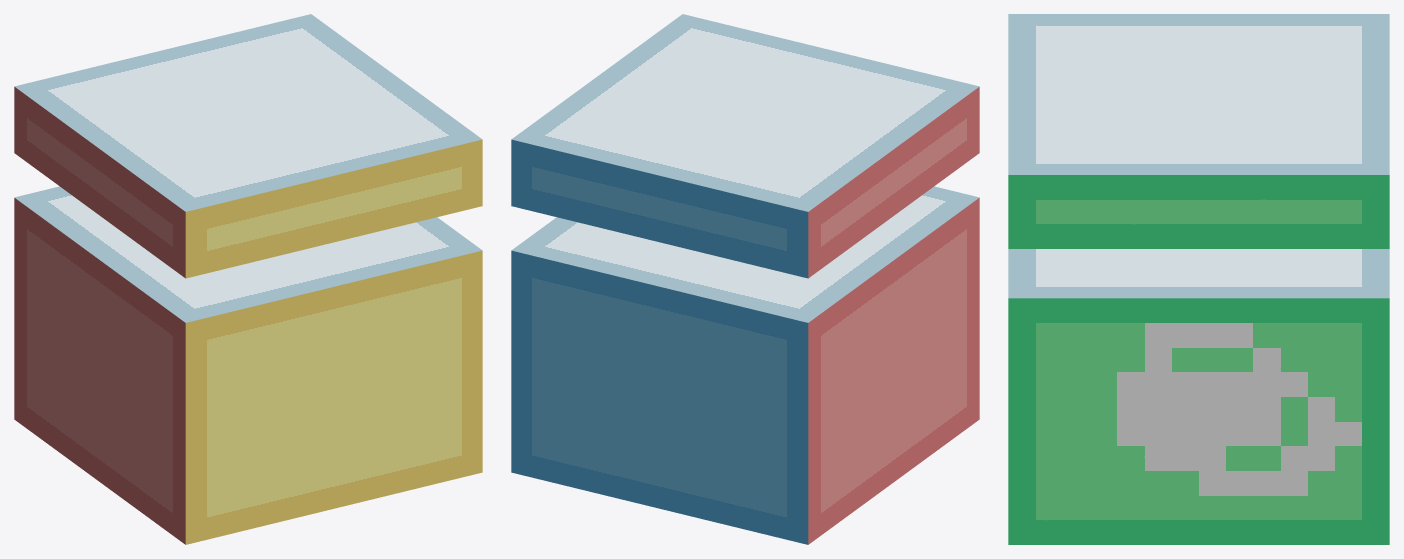
Rendered from Chest.gltf.
3 views of the same model, side by side, from view 1: azimuth 30°, elevation 25°; view 2: azimuth 150°, elevation 25°; view 3: azimuth 270°, elevation 25° (orthographic). The views are drawn at different scales.
Parts seen in each view (by area): view 1: Box, cube; view 2: Box, cube; view 3: Box, cube.
Part boxes in pixels (<box>): Box: <box>14,186,482,544</box>; cube: <box>14,14,482,278</box>; Box: <box>511,186,979,544</box>; cube: <box>511,14,979,278</box>; Box: <box>1008,249,1389,544</box>; cube: <box>1008,14,1389,248</box>.
Size of the model in its own units: 0.875 by 0.9375 by 0.875.
1 material, 1 textured.
